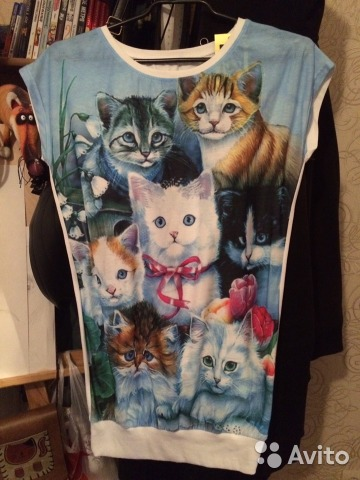cat: (124, 167, 226, 260), (183, 304, 266, 398), (179, 59, 270, 144), (92, 87, 179, 171), (65, 224, 148, 306), (218, 183, 295, 271), (101, 310, 180, 380)
